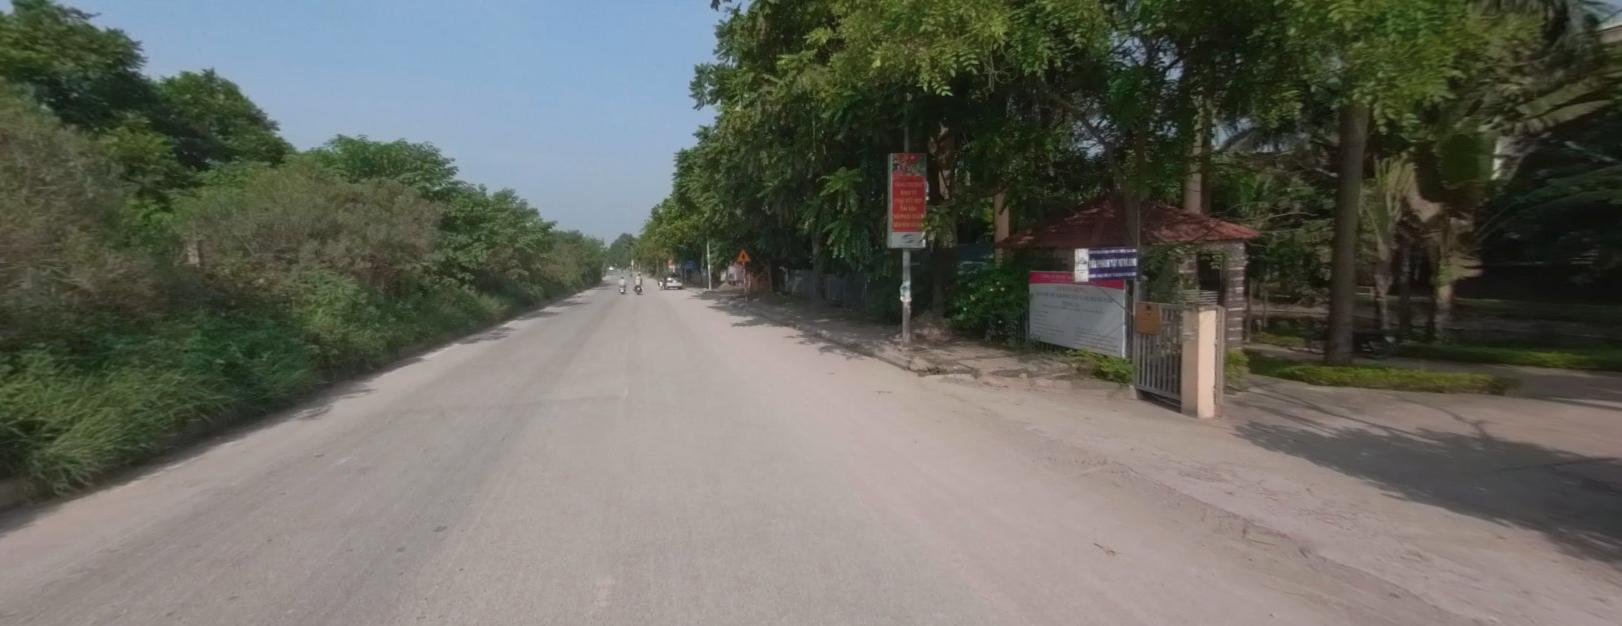Nguy hiem: (735, 247, 751, 259), (737, 247, 750, 259)
